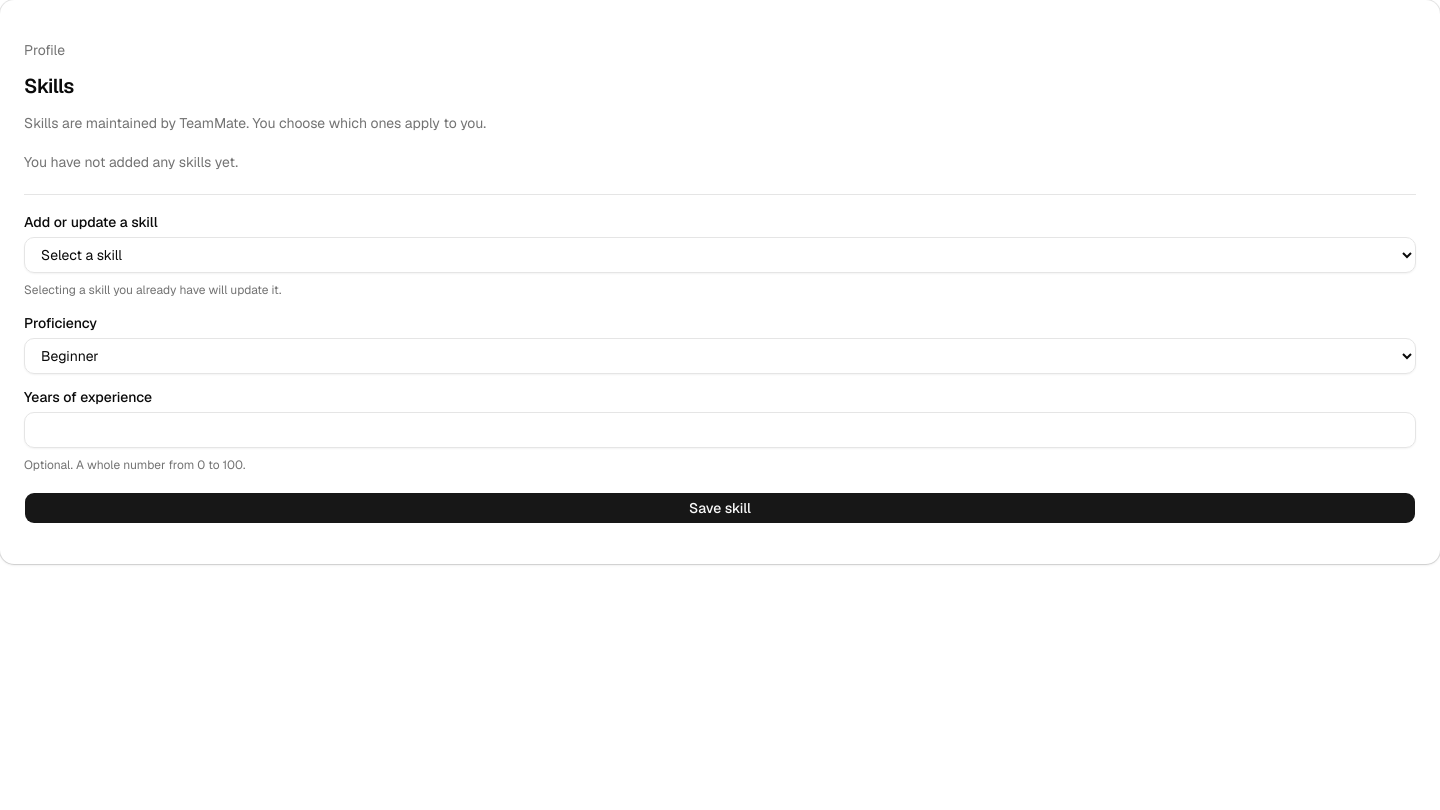
skills section › surfaces a taxonomy-unavailable failure from the action
The image size is (1440, 810).
Select "TypeScript" in the dropdown labelled "Add or update a skill" at (720,254), box [24,236,1416,272]
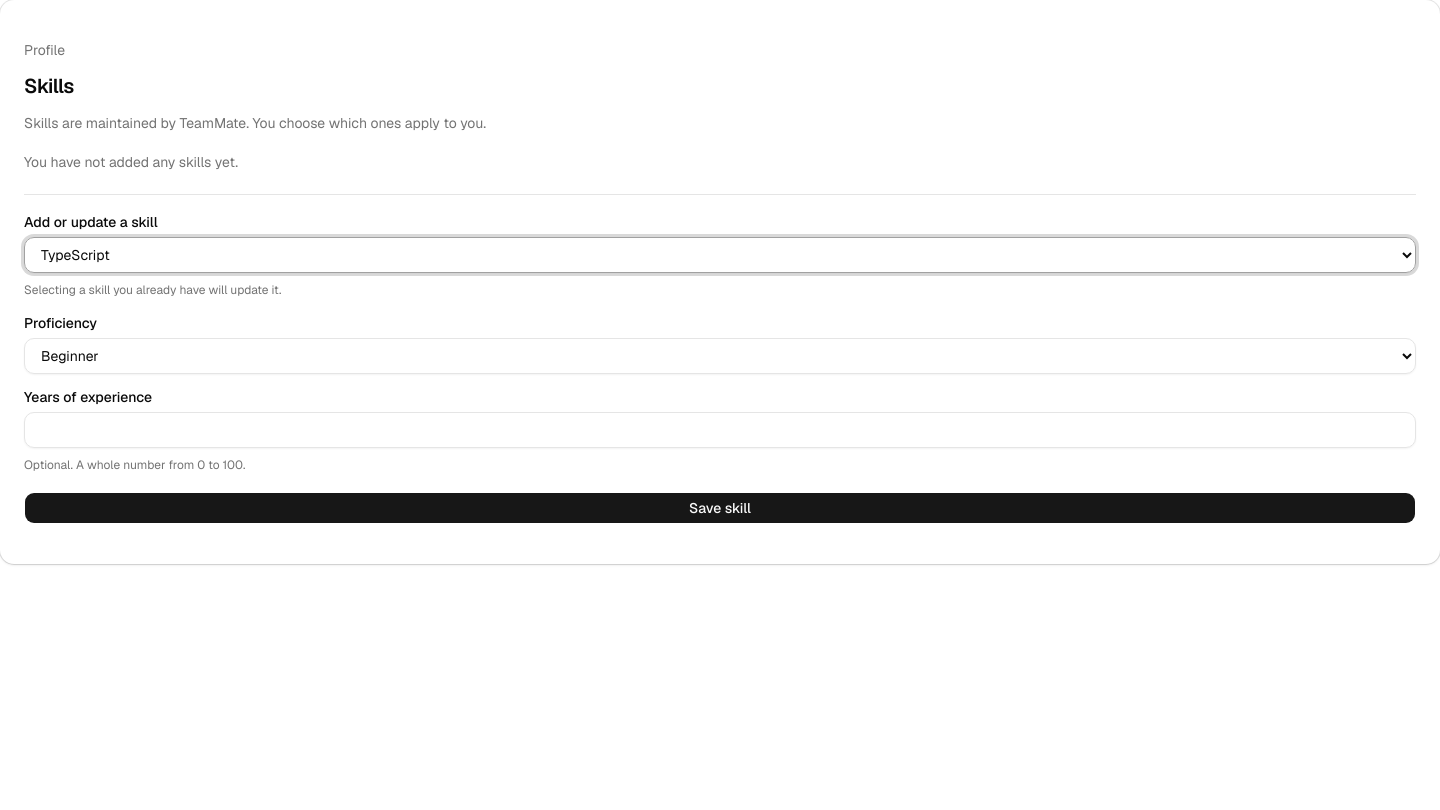
Click the button "Save skill" at (720,508), box [24,492,1416,524]
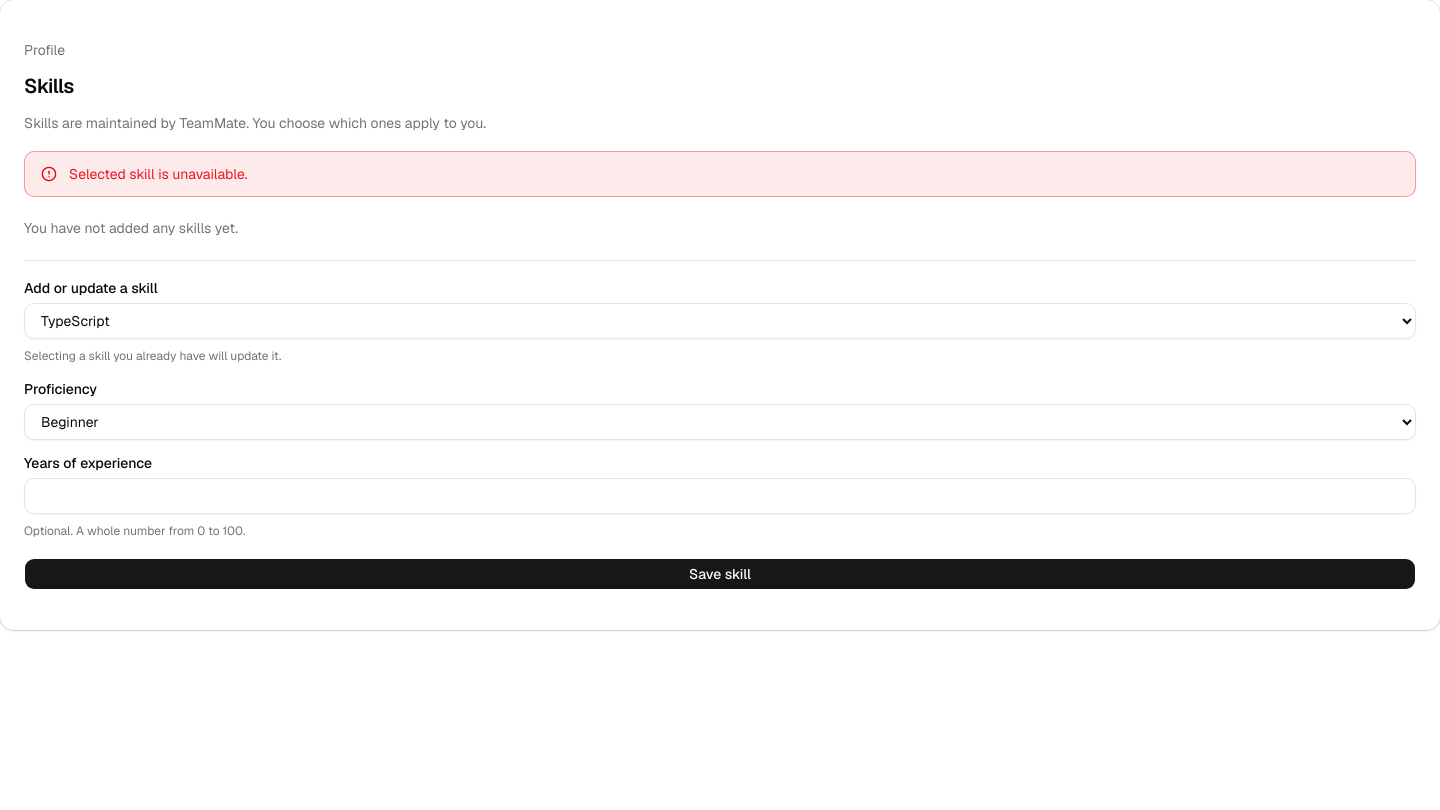
expect the text "Selected skill is unavailable." is shown: met, box [69,165,248,183]
